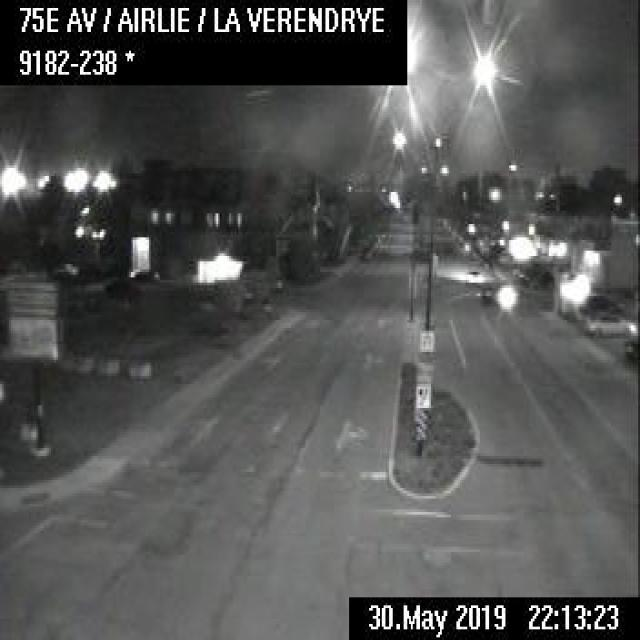vehicle: (584, 306, 636, 336), (577, 292, 615, 312), (127, 264, 160, 282), (463, 266, 481, 284), (355, 244, 371, 258)
